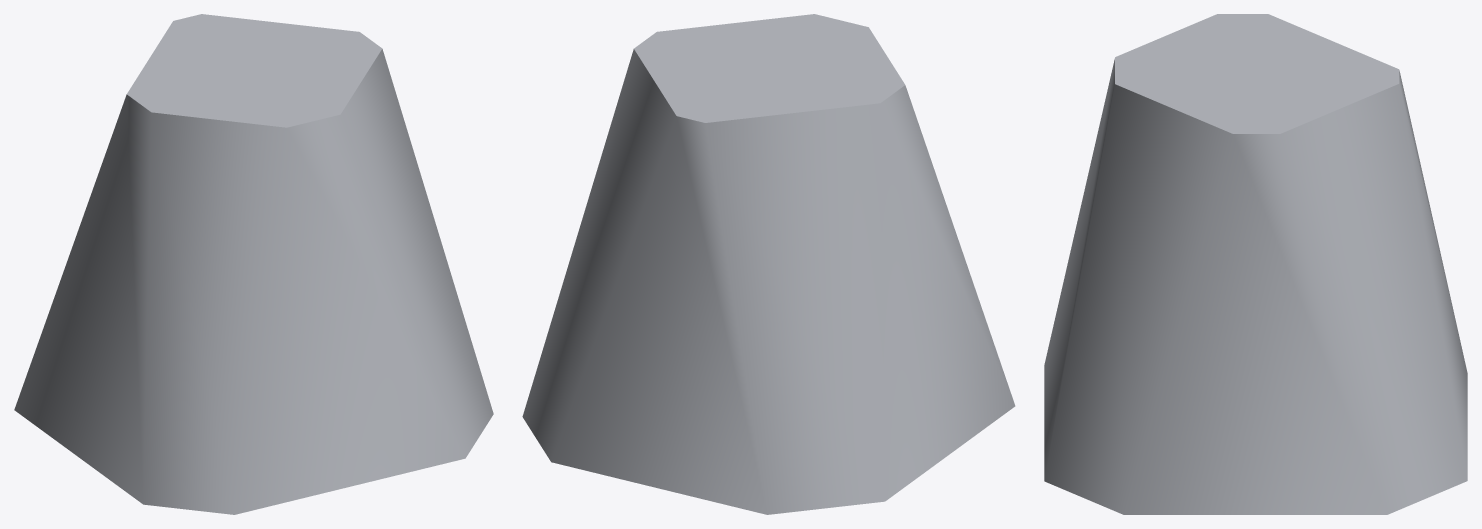
The model's file is RockBig_C.fbx.
3 renders of one model, left to right at view 1: azimuth 30°, elevation 25°; view 2: azimuth 150°, elevation 25°; view 3: azimuth 270°, elevation 25°, orthographic. The views are drawn at different scales.
Visible parts, largest first — view 1: RockBig_C; view 2: RockBig_C; view 3: RockBig_C.
Boxes of the visible parts, box(x1,y1,x2,y2) form: RockBig_C: box(14, 14, 493, 514); RockBig_C: box(522, 14, 1015, 514); RockBig_C: box(1044, 14, 1467, 514).
Bounding box in the file's own units: 135 × 123 × 135.
